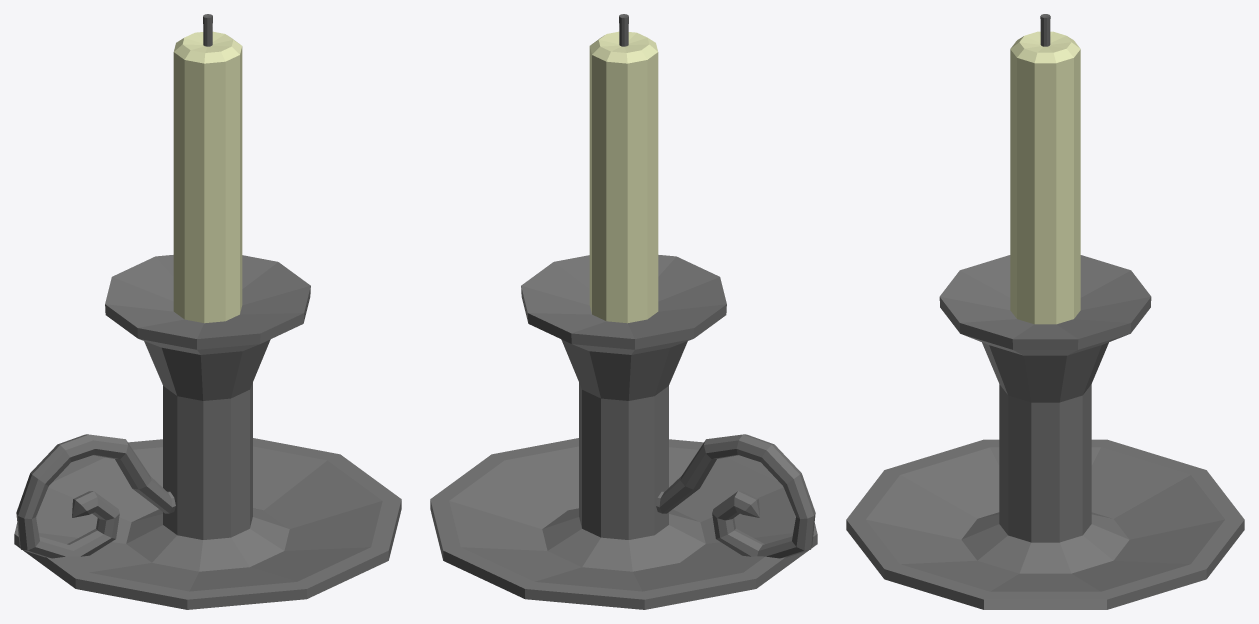
File: SM_PorteBougie.fbx
The picture shows the model from 3 angles, left to right: view 1: azimuth 30°, elevation 25°; view 2: azimuth 150°, elevation 25°; view 3: azimuth 270°, elevation 25°; orthographic projection.
Parts seen in each view (by area): view 1: sweep2; view 2: sweep2; view 3: sweep2.
Boxes of the visible parts, bbox=[...] form: sweep2: bbox=[14, 14, 401, 609]; sweep2: bbox=[430, 14, 817, 609]; sweep2: bbox=[846, 14, 1244, 609].
Size of the model in its own units: 5.88 by 8.59 by 5.71.
